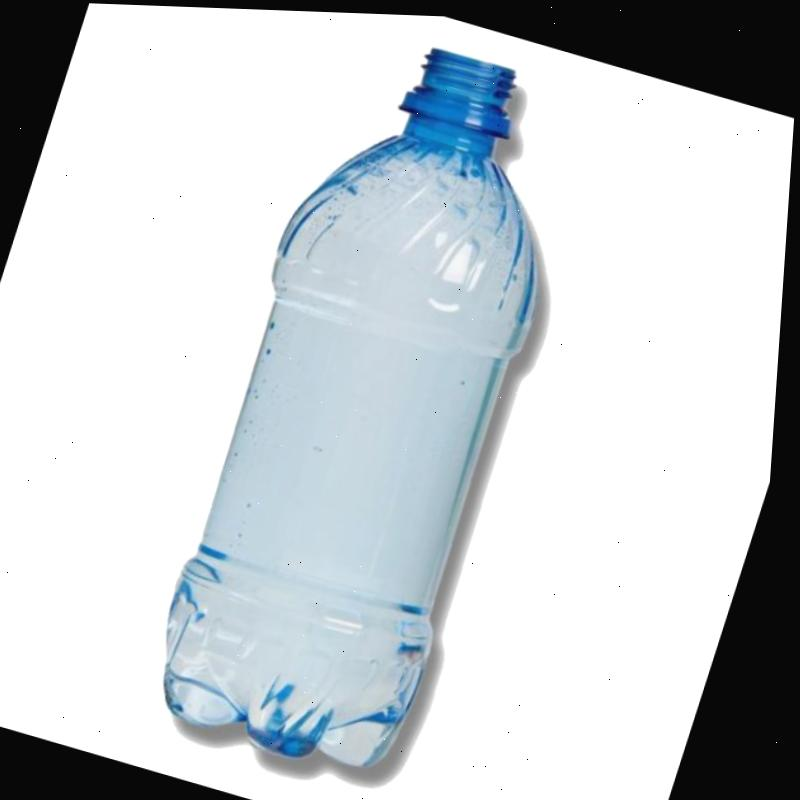botella: (133, 13, 614, 792)
